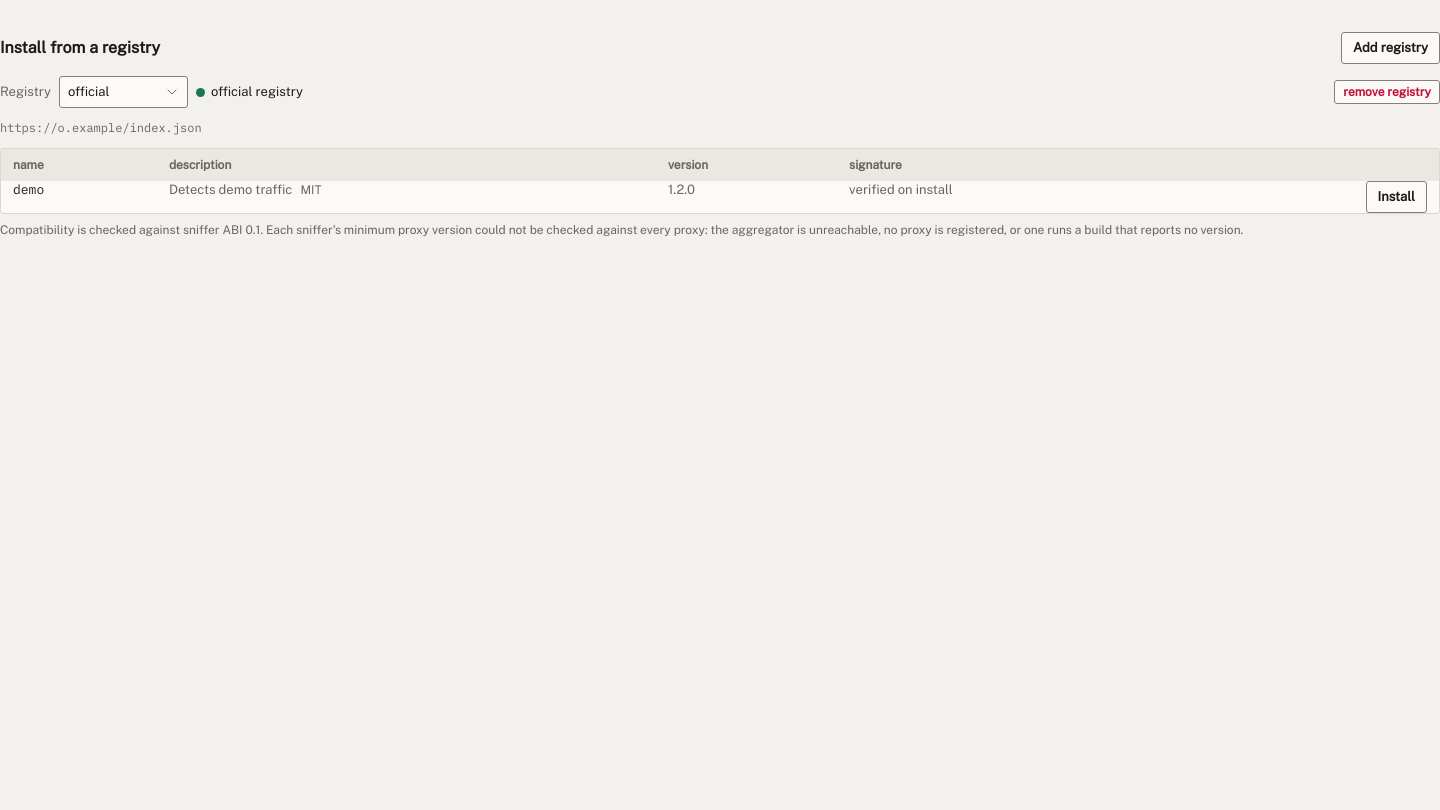
it: RegistrySection › a verifiable version shows in the column and in the dialog for that version
Check: the text "demo" shows "verified on install", box [849,182,953,197]
What coordinates should you click on to do the following:
click the button "Install"
I would click on:
 (1396, 197)
Its box is [1366,181,1427,213].
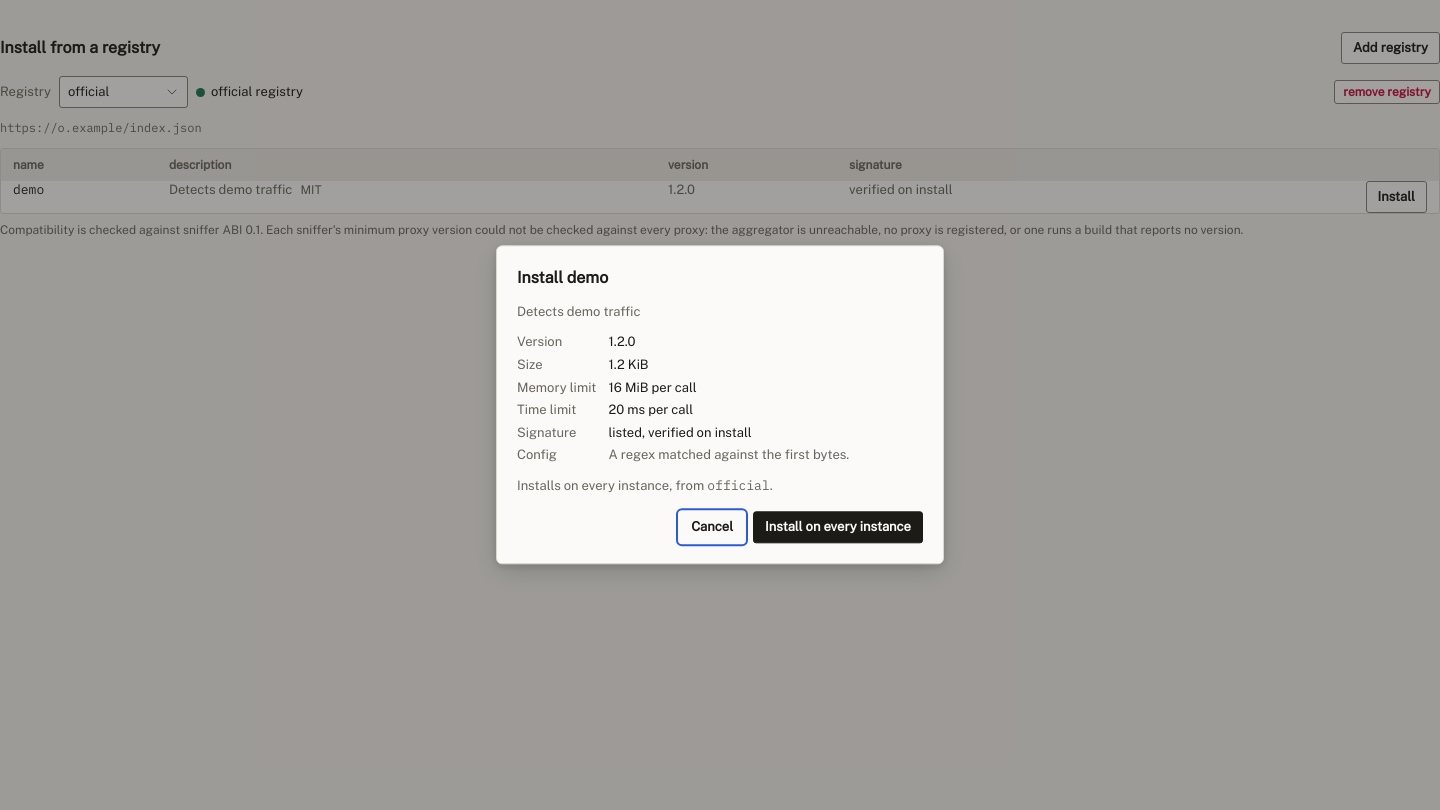
Check: the dialog shows "listed, verified on install", box [608,425,752,440]
